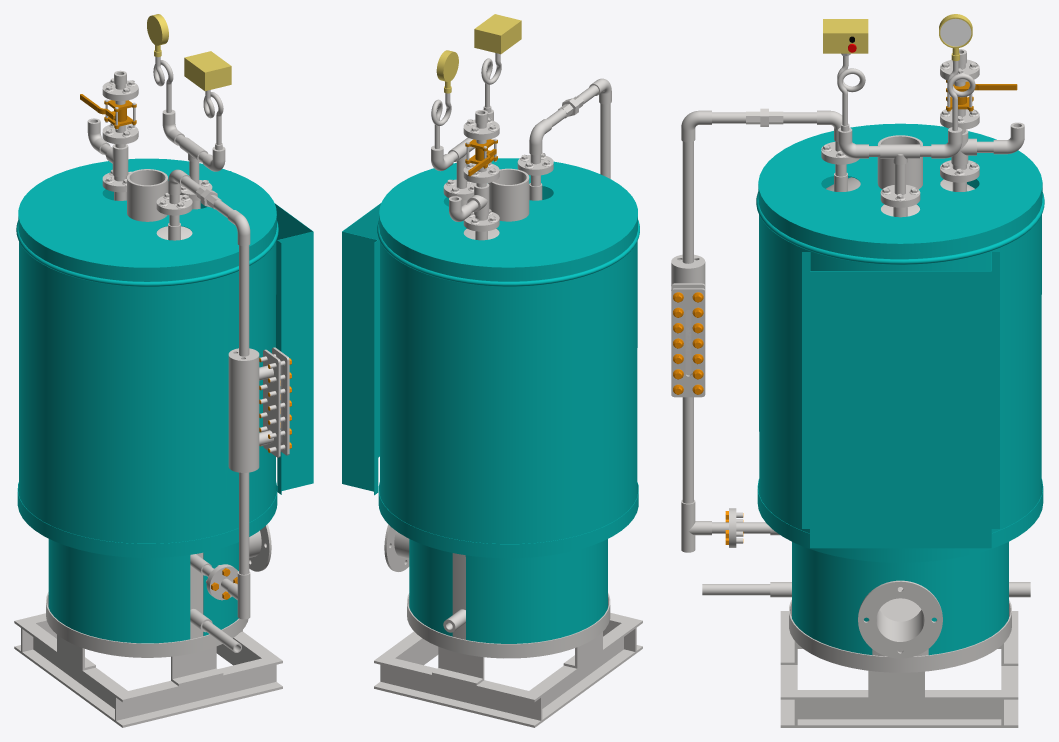
Rendered from korean-boiler.glb.
3 views of the same model, side by side, from view 1: azimuth 30°, elevation 25°; view 2: azimuth 150°, elevation 25°; view 3: azimuth 270°, elevation 25° (orthographic). The views are drawn at different scales.
Visible parts, largest first — view 1: korean model boiler; view 2: korean model boiler; view 3: korean model boiler.
Part boxes in pixels (bbox=[...]): korean model boiler: bbox=[14, 14, 313, 727]; korean model boiler: bbox=[342, 14, 642, 727]; korean model boiler: bbox=[671, 14, 1044, 727].
Size of the model in its own units: 0.6794 by 1.7 by 0.8381.
